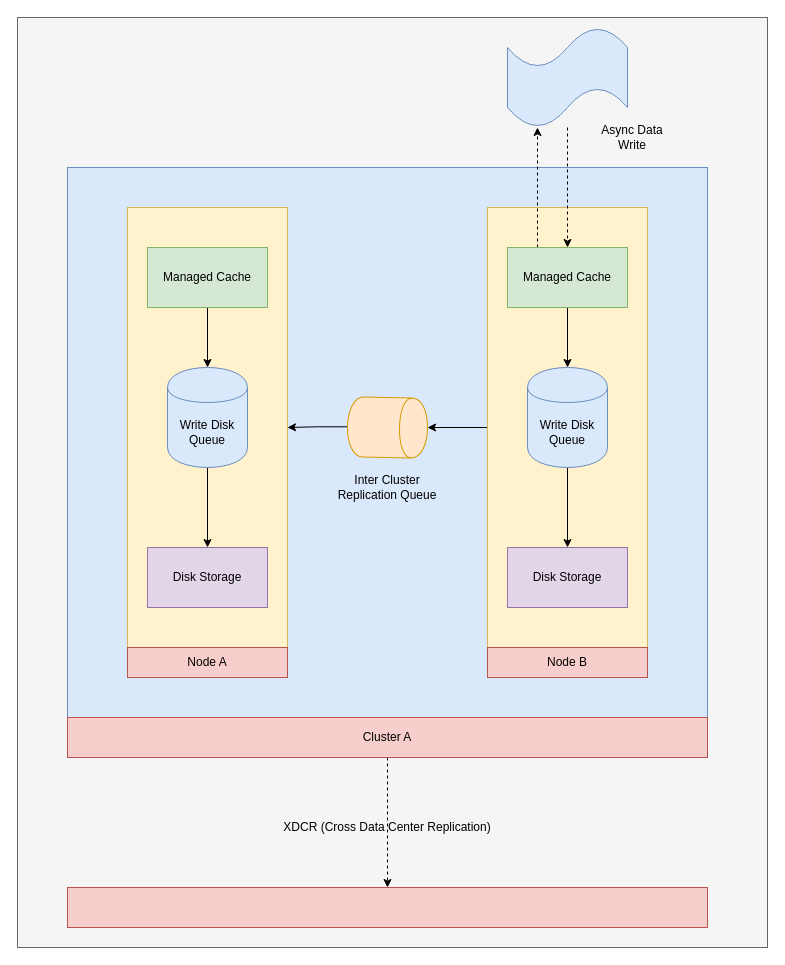
Some shapes in this 785 by 965 pixel diagram are drawn without their labels. The centre of each missing label's shape, as x and y in pixels:
Cluster B: (387,907)
Doc: (567,77)
